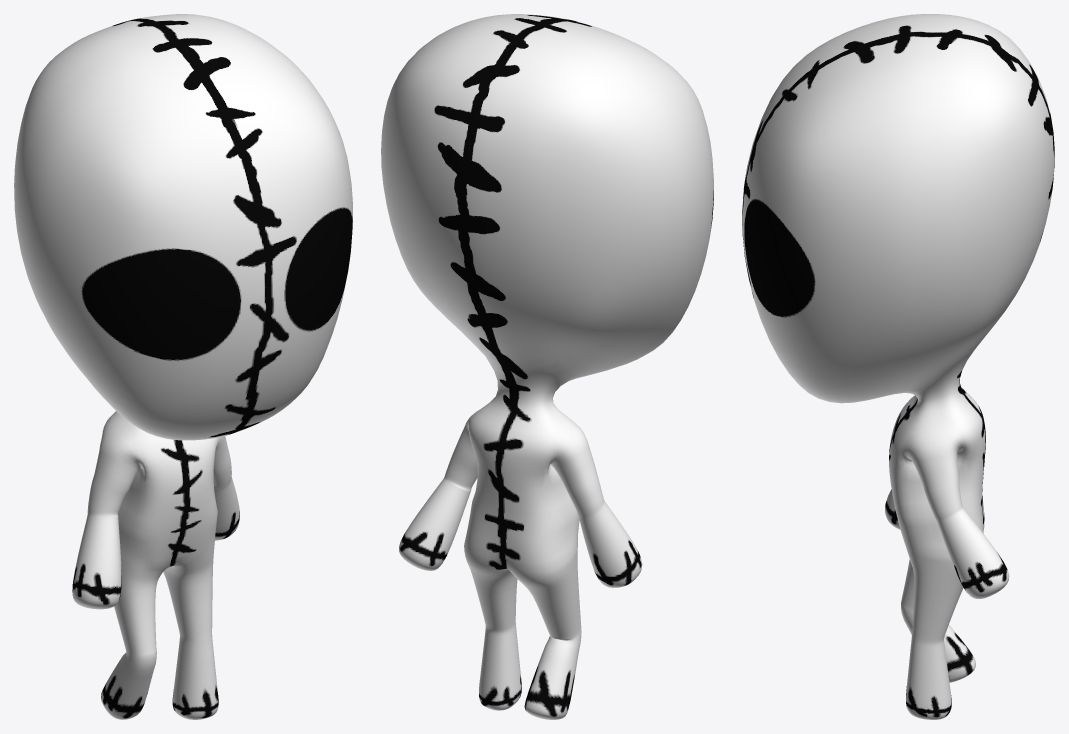
File: WebARTest.glb
3 views of the same model, side by side, from view 1: azimuth 30°, elevation 25°; view 2: azimuth 150°, elevation 25°; view 3: azimuth 270°, elevation 25° (orthographic). The views are drawn at different scales.
Parts seen in each view (by area): view 1: Cube.001; view 2: Cube.001; view 3: Cube.001.
Part boxes in pixels (left/top/right/bottom): Cube.001: left=14, top=14, right=352, bottom=719; Cube.001: left=381, top=14, right=713, bottom=719; Cube.001: left=742, top=14, right=1054, bottom=719.
Bounding box in the file's own units: 0.1957 × 0.4354 × 0.1845.
1 material, 1 textured.
